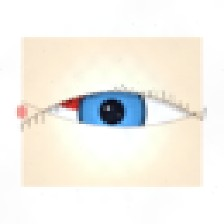hemorrhage_spot: (47, 74, 105, 121)
